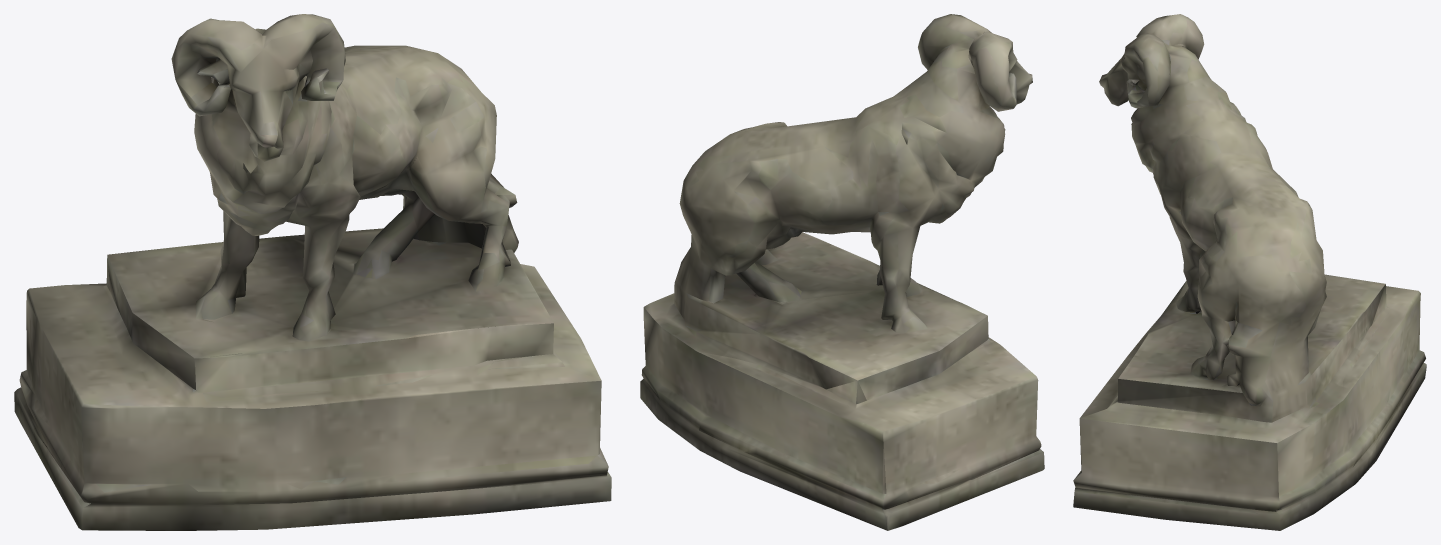
Rendered from plain-limestone-statue-v001.glb.
The picture shows the model from 3 angles, left to right: view 1: azimuth 30°, elevation 25°; view 2: azimuth 150°, elevation 25°; view 3: azimuth 270°, elevation 25°; orthographic projection. The views are drawn at different scales.
Parts seen in each view (by area): view 1: plain-limestone-statue; view 2: plain-limestone-statue; view 3: plain-limestone-statue.
Boxes of the visible parts, box(x1,y1,x2,y2) form: plain-limestone-statue: box(14, 14, 611, 530); plain-limestone-statue: box(640, 14, 1044, 530); plain-limestone-statue: box(1073, 14, 1426, 530).
Size of the model in its own units: 1.68 by 1.68 by 1.42.
1 material, 1 textured.
